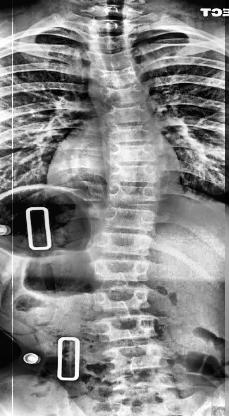Vertebrae: (92, 254, 152, 286), (103, 342, 168, 370), (97, 314, 163, 340), (98, 226, 150, 258), (106, 204, 158, 234), (96, 286, 152, 312), (106, 181, 166, 205), (106, 160, 162, 184), (106, 121, 162, 144), (107, 140, 161, 162), (104, 102, 158, 124), (90, 50, 138, 72), (94, 68, 146, 88), (100, 86, 148, 107), (93, 34, 133, 56), (91, 15, 131, 37)
